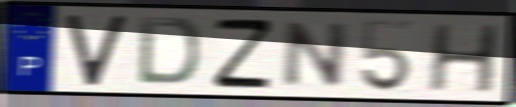5: (357, 17, 423, 95)
D: (134, 14, 203, 88)
H: (425, 22, 501, 95)
N: (278, 19, 353, 90)
V: (63, 12, 130, 88)
Z: (211, 17, 274, 90)
